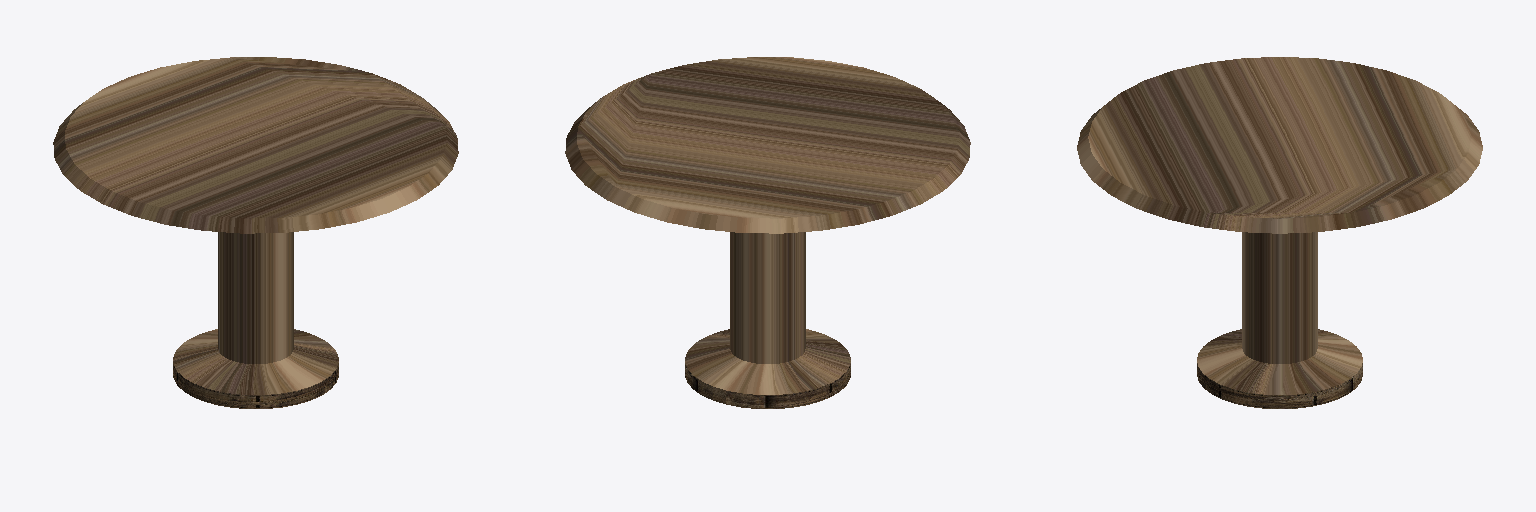
The picture shows the model from 3 angles: view 1: azimuth 30°, elevation 25°; view 2: azimuth 150°, elevation 25°; view 3: azimuth 270°, elevation 25°; orthographic projection.
Parts seen in each view (by area): view 1: Cylinder001; view 2: Cylinder001; view 3: Cylinder001.
Boxes of the visible parts, x1=… form: Cylinder001: x1=53, y1=57, x2=458, y2=408; Cylinder001: x1=565, y1=57, x2=970, y2=408; Cylinder001: x1=1077, y1=57, x2=1482, y2=408.
Bounding box in the file's own units: 26.33 × 16.91 × 26.33.
Materials: 1 (1 with a texture image).